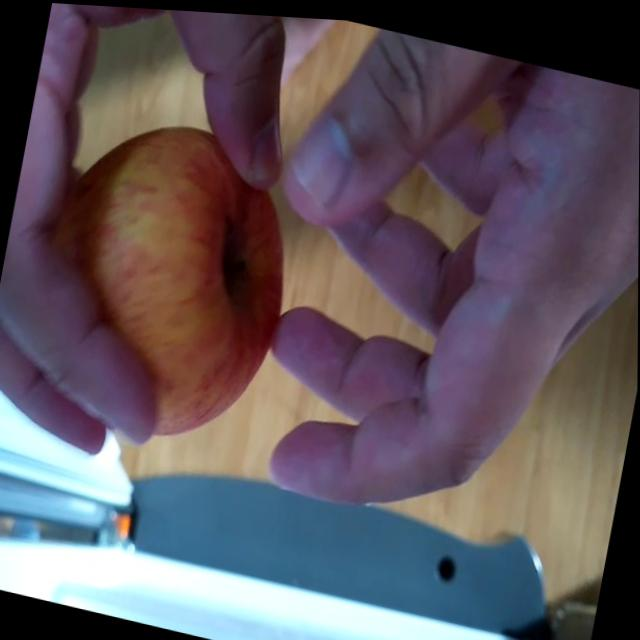apple: (36, 103, 308, 458)
